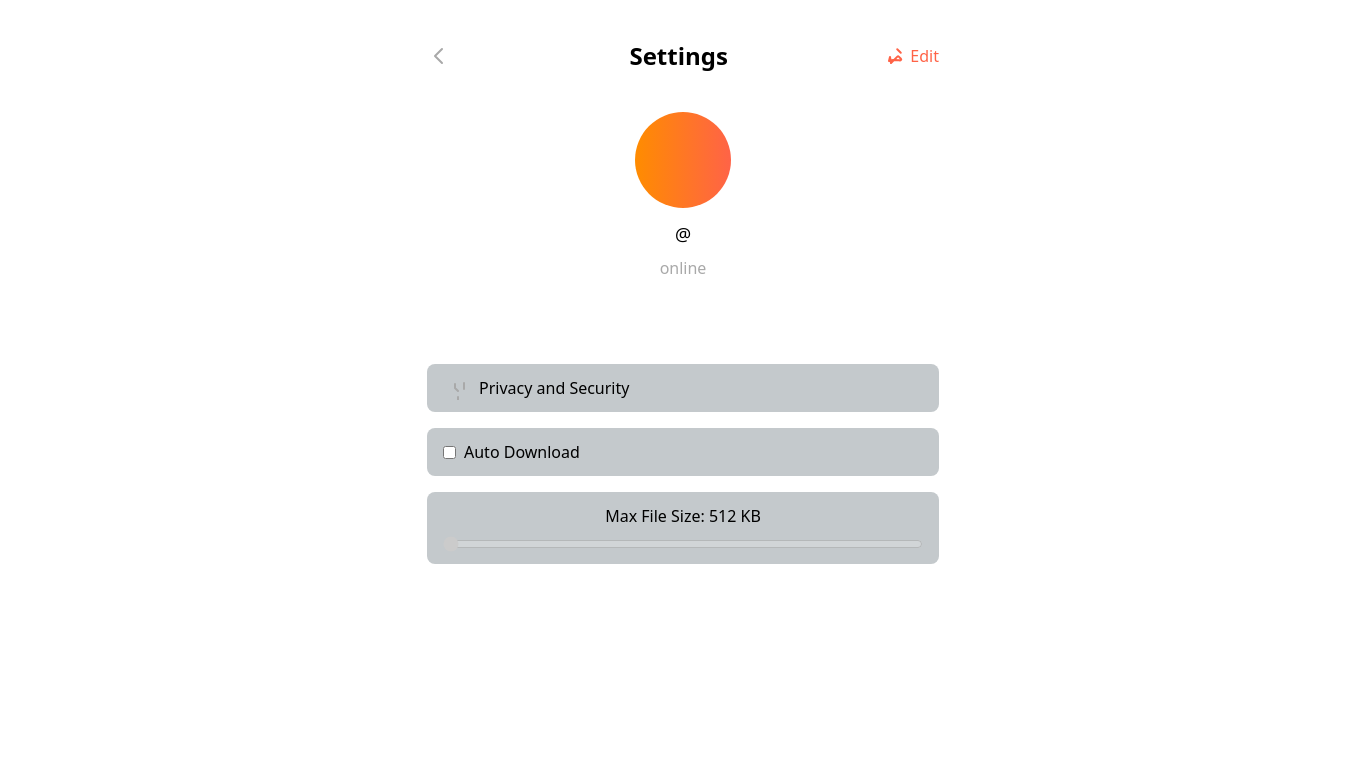
Test: Settings Component › navigates to edit view when Edit button is clicked
Click the button with test id "edit-settings".
click(911, 56)  # box [882, 44, 939, 68]
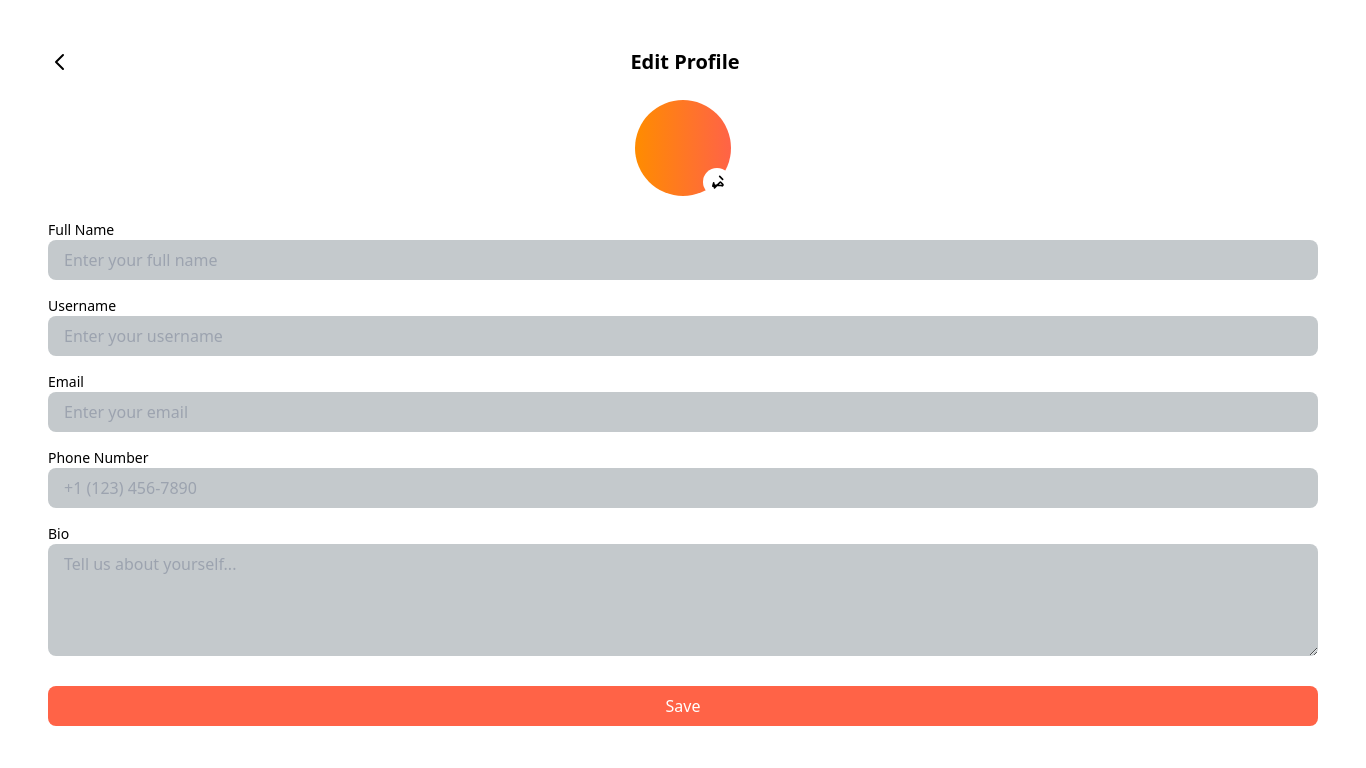
Expected: the heading "Edit Profile" is shown, [630, 48, 740, 76]
